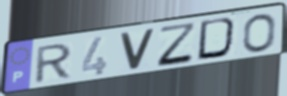4: (80, 35, 110, 78)
D: (195, 16, 241, 62)
O: (241, 12, 277, 54)
R: (32, 41, 75, 86)
V: (117, 28, 158, 72)
Z: (156, 21, 199, 69)
